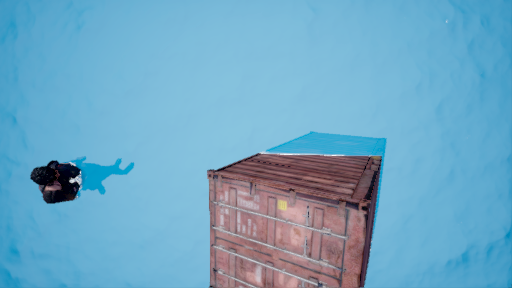person: (32, 156, 135, 210)
